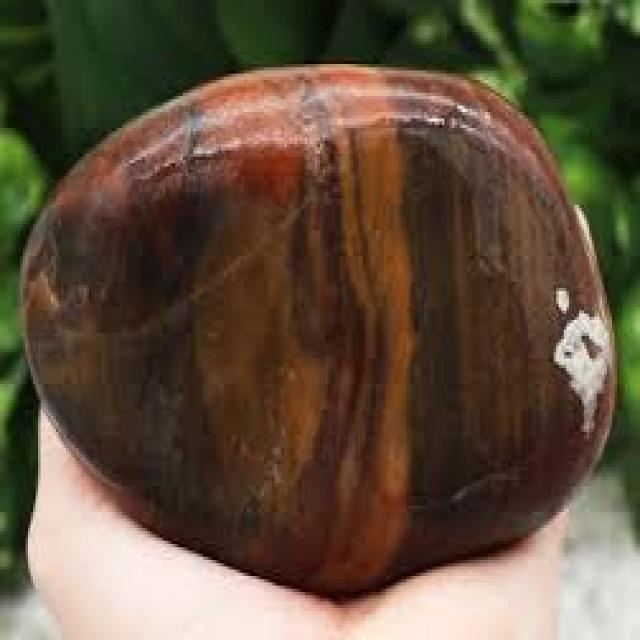Metamorphic: (20, 64, 620, 570)
